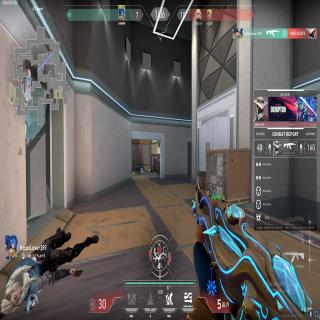ENEMY-BODY: (152, 153, 158, 175)
ENEMY-HEAD: (154, 153, 156, 157)
